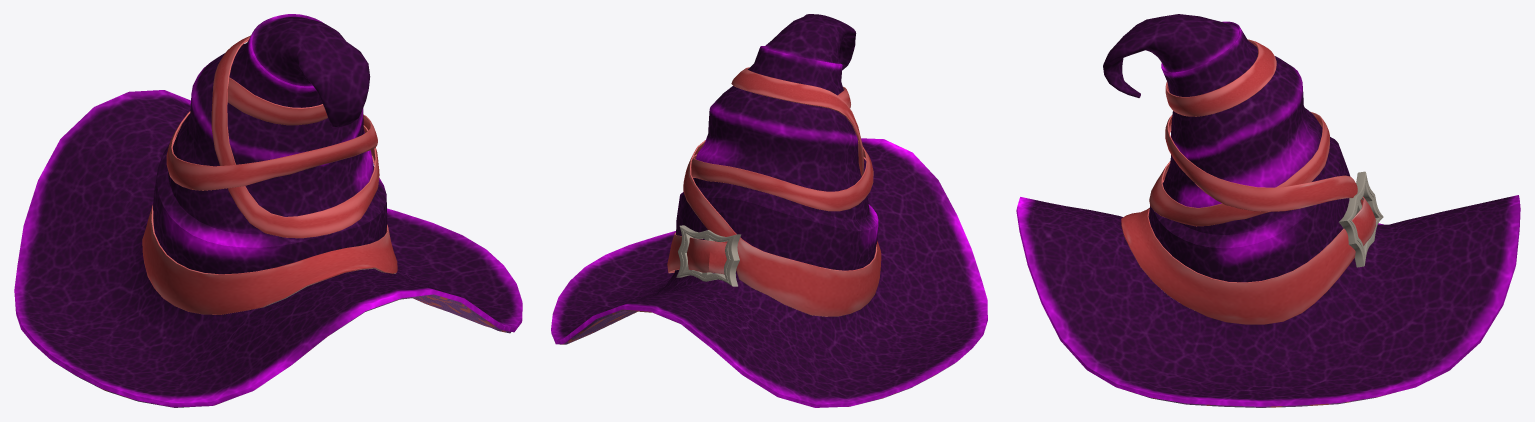
Rendered from Witch_hat.fbx.
3 renders of one model, left to right at view 1: azimuth 30°, elevation 25°; view 2: azimuth 150°, elevation 25°; view 3: azimuth 270°, elevation 25°, orthographic. The views are drawn at different scales.
Visible parts, largest first — view 1: witchs_hat, Belt, witchs_hat_inner_part; view 2: witchs_hat, Belt, buckle, witchs_hat_inner_part; view 3: witchs_hat, Belt, buckle.
Boxes of the visible parts, bbox=[...] form: witchs_hat: bbox=[14, 14, 522, 407]; Belt: bbox=[142, 35, 397, 314]; witchs_hat_inner_part: bbox=[53, 294, 510, 407]; witchs_hat: bbox=[551, 14, 987, 407]; Belt: bbox=[667, 67, 881, 316]; buckle: bbox=[676, 225, 741, 286]; witchs_hat_inner_part: bbox=[560, 309, 954, 406]; witchs_hat: bbox=[1016, 14, 1520, 406]; Belt: bbox=[1121, 39, 1376, 324]; buckle: bbox=[1339, 171, 1383, 267].
Bounding box in the file's own units: 6.22 × 4.39 × 6.74.
Materials: 1 (1 with a texture image).
